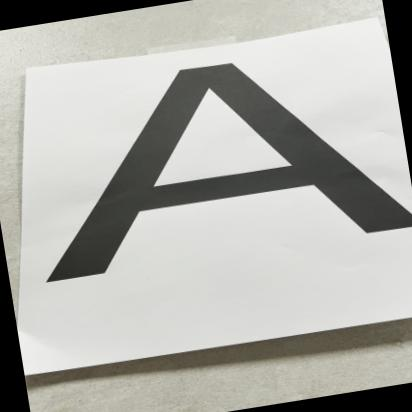seat: (0, 40, 400, 319)
